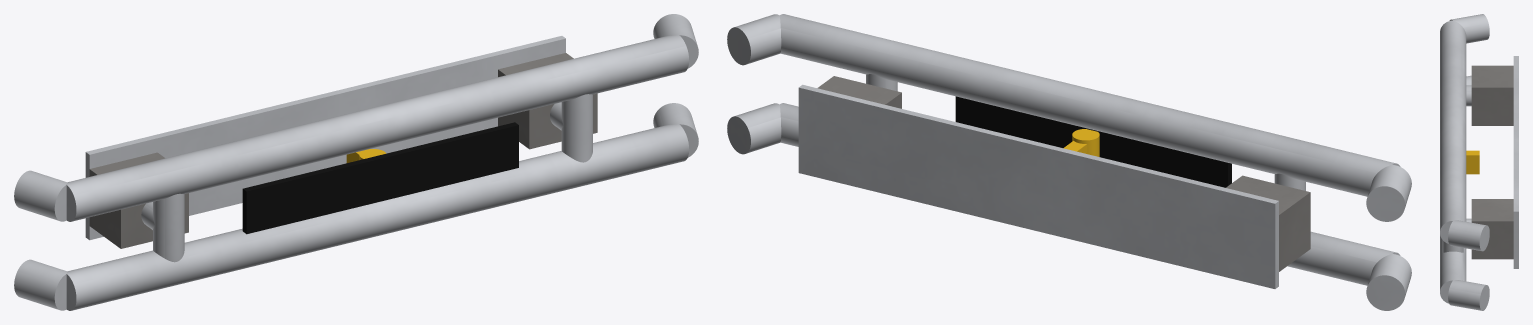
Rendered from rover34_bumper_m.glb.
3 views of the same model, side by side, from view 1: azimuth 30°, elevation 25°; view 2: azimuth 150°, elevation 25°; view 3: azimuth 270°, elevation 25° (orthographic). The views are drawn at different scales.
Visible parts, largest first — view 1: push_bar, mount_plate, rubber_pads, crush_boxes; view 2: mount_plate, push_bar, rubber_pads, crush_boxes, tow_eye; view 3: push_bar, crush_boxes, mount_plate, tow_eye.
Boxes of the visible parts, bbox=[...] form: push_bar: bbox=[14, 14, 698, 310]; mount_plate: bbox=[85, 36, 565, 240]; rubber_pads: bbox=[242, 122, 518, 234]; crush_boxes: bbox=[89, 53, 597, 248]; mount_plate: bbox=[798, 84, 1278, 288]; push_bar: bbox=[727, 14, 1411, 310]; rubber_pads: bbox=[955, 96, 1231, 187]; crush_boxes: bbox=[817, 76, 1310, 271]; tow_eye: bbox=[1063, 129, 1099, 156]; push_bar: bbox=[1440, 14, 1489, 310]; crush_boxes: bbox=[1471, 65, 1513, 259]; mount_plate: bbox=[1513, 56, 1518, 268]; tow_eye: bbox=[1466, 150, 1479, 174].
Size of the model in its own units: 1.99 by 0.35 by 0.3.
4 materials, 2 textured.
